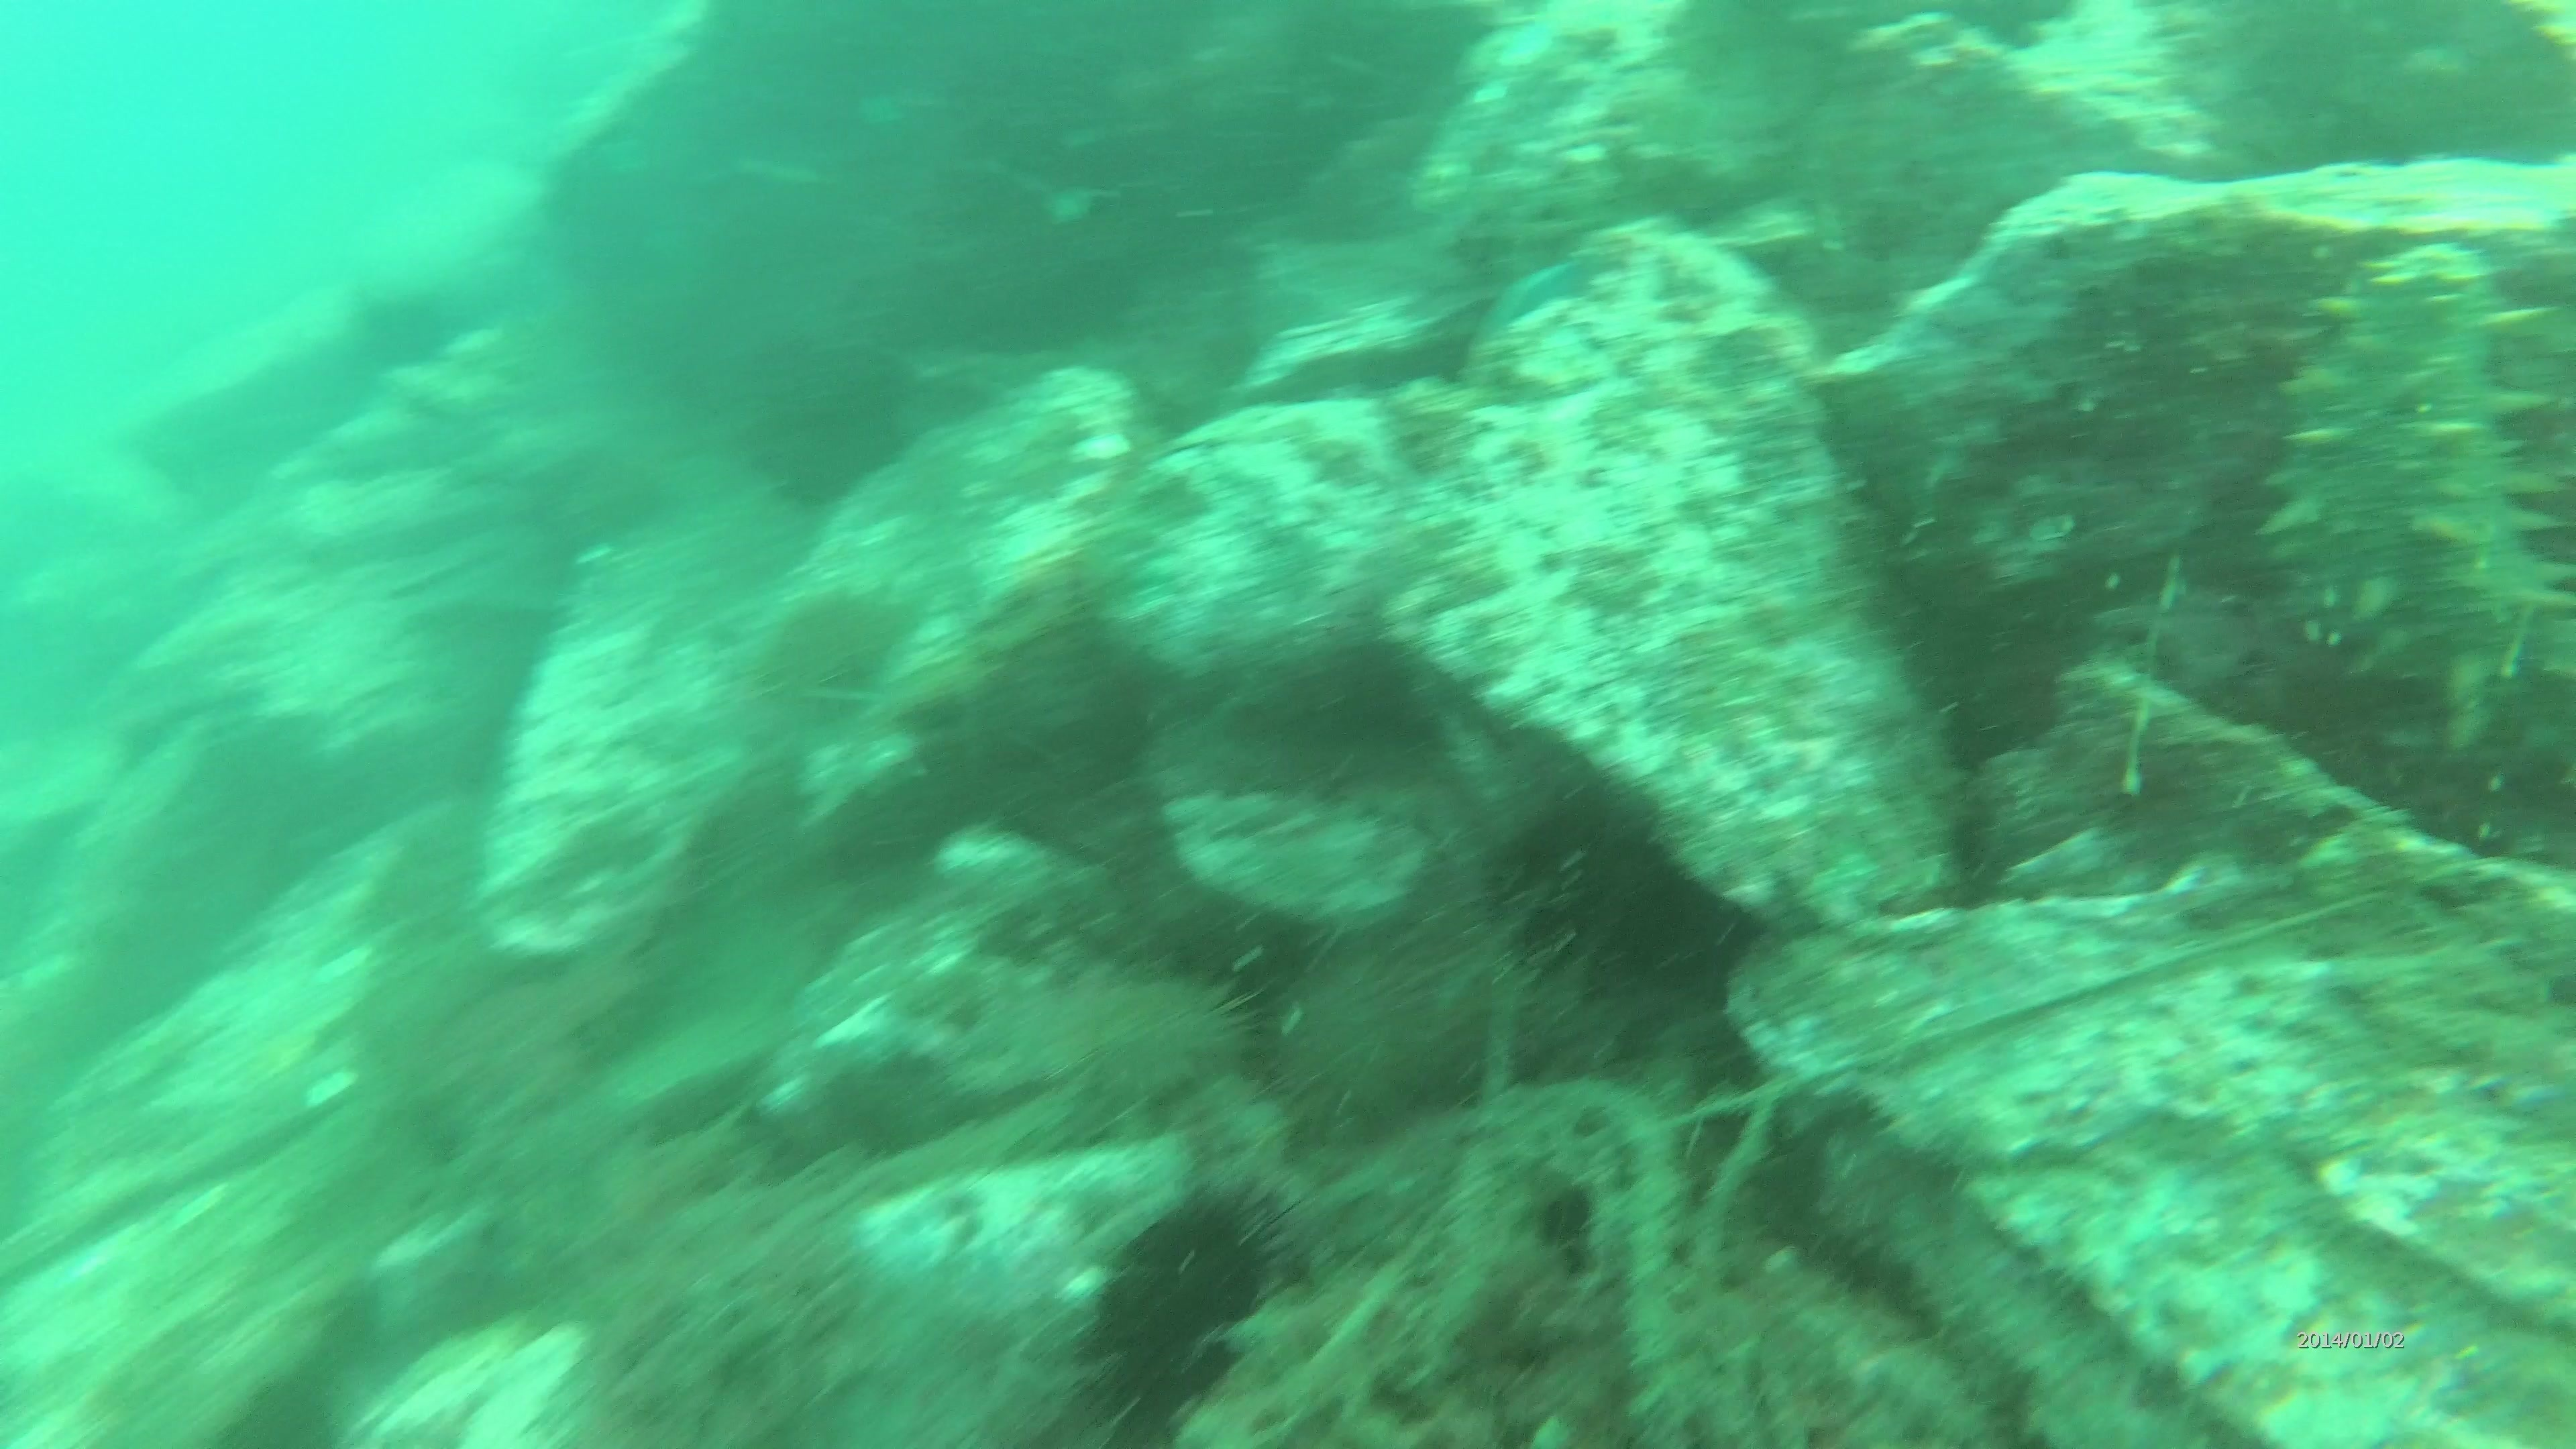echinus: (1063, 1180, 1302, 1431), (1486, 789, 1744, 1005), (1258, 939, 1465, 1146), (1026, 952, 1261, 1127), (748, 582, 920, 731)
holothurian: (2250, 242, 2567, 702)
starfish: (1461, 239, 1628, 368)
